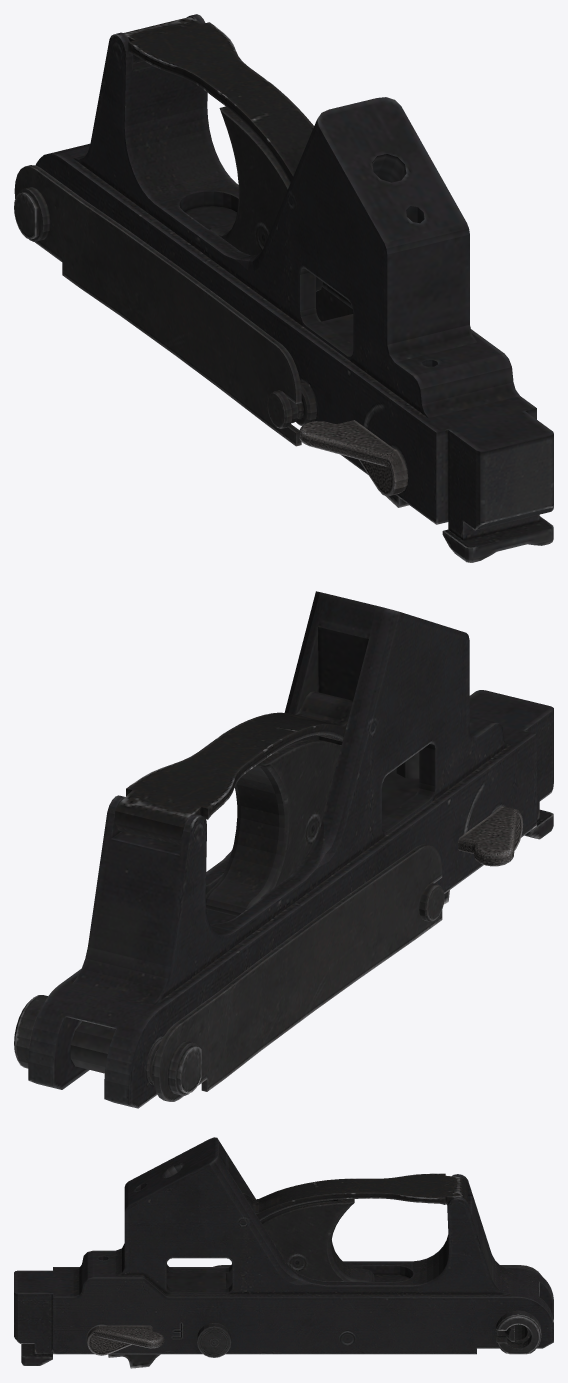
3 views of the same model, one above another, from view 1: azimuth 30°, elevation 25°; view 2: azimuth 150°, elevation 25°; view 3: azimuth 270°, elevation 25° (orthographic). The views are drawn at different scales.
Parts seen in each view (by area): view 1: TW_6601257f1347bc1a5f0f4db6_PZ_Import; view 2: TW_6601257f1347bc1a5f0f4db6_PZ_Import; view 3: TW_6601257f1347bc1a5f0f4db6_PZ_Import.
Boxes of the visible parts, <box> form: TW_6601257f1347bc1a5f0f4db6_PZ_Import: <box>14,14,553,562</box>; TW_6601257f1347bc1a5f0f4db6_PZ_Import: <box>14,591,553,1108</box>; TW_6601257f1347bc1a5f0f4db6_PZ_Import: <box>14,1137,553,1368</box>.
Size of the model in its own units: 0.0253 by 0.0911 by 0.0398.
1 material, 1 textured.
